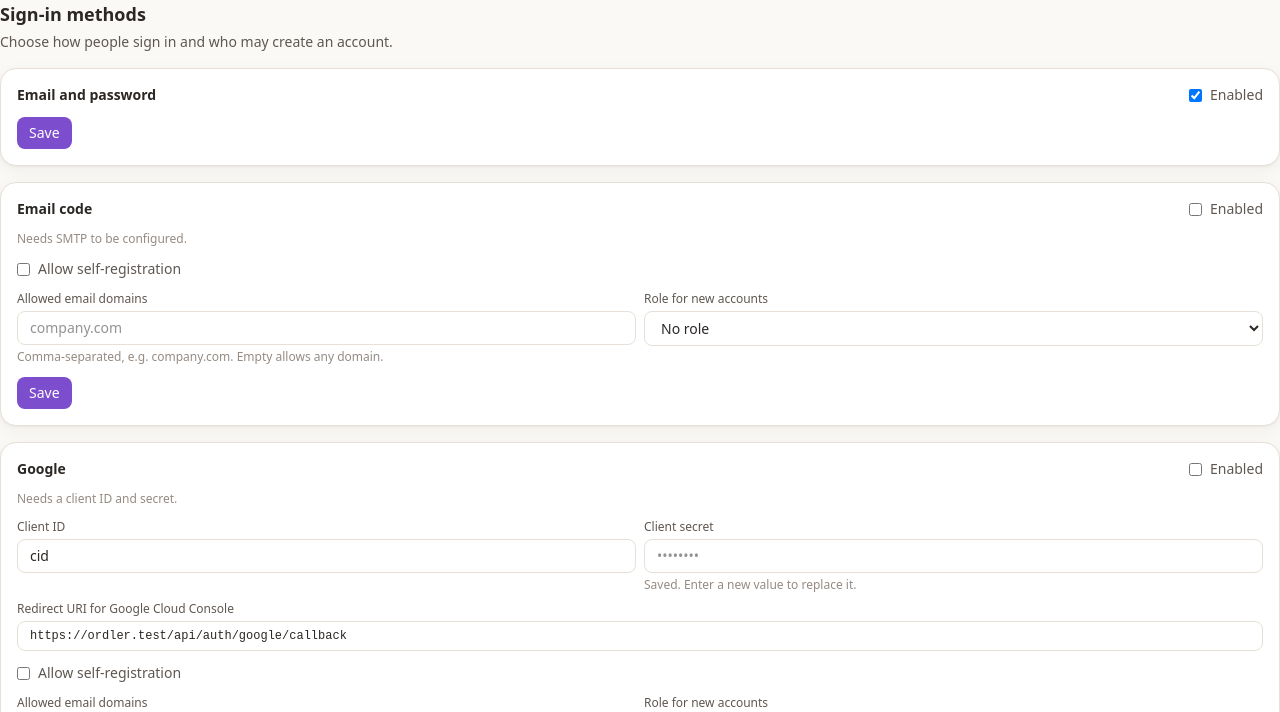
Test: AuthSection › explains lock-out protection
The image size is (1280, 712).
Click the checkbox labelled "Enabled" in the row of "Email and password" at (1196, 95), box top-left (1189, 88), bottom-right (1202, 102)
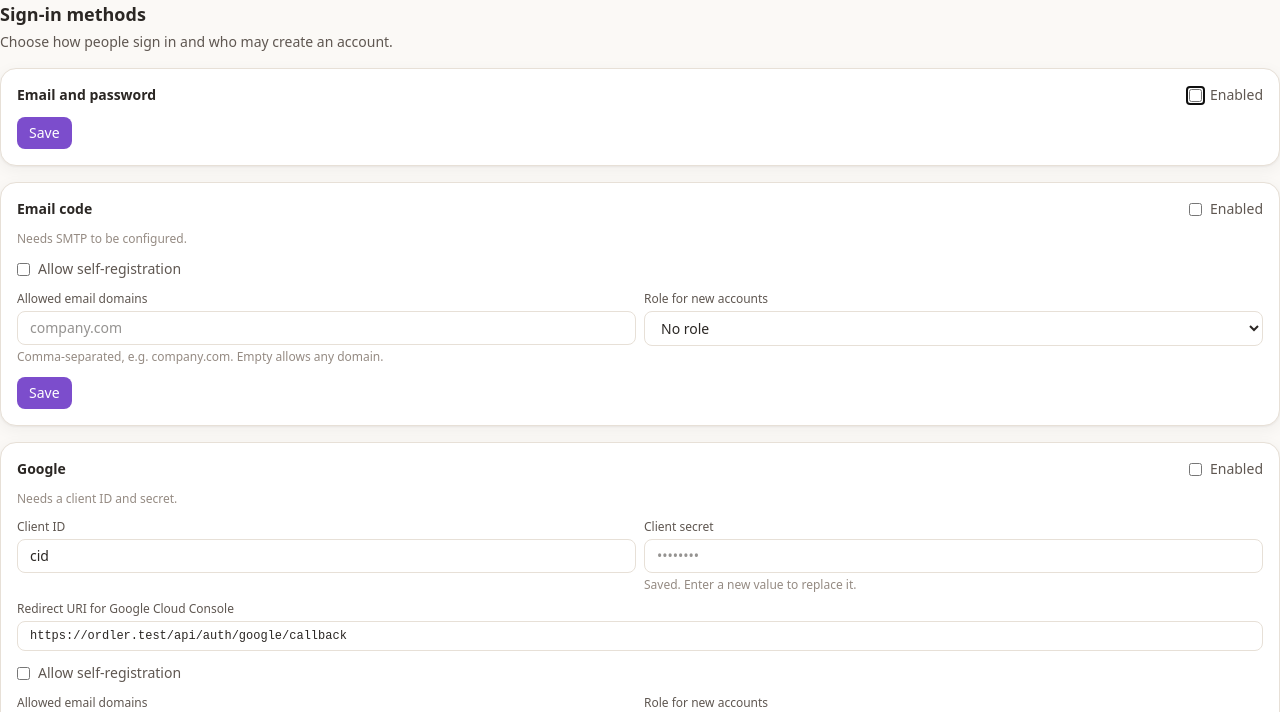
Click the button "Save" below "Email and password" at (44, 133), box top-left (17, 117), bottom-right (72, 149)
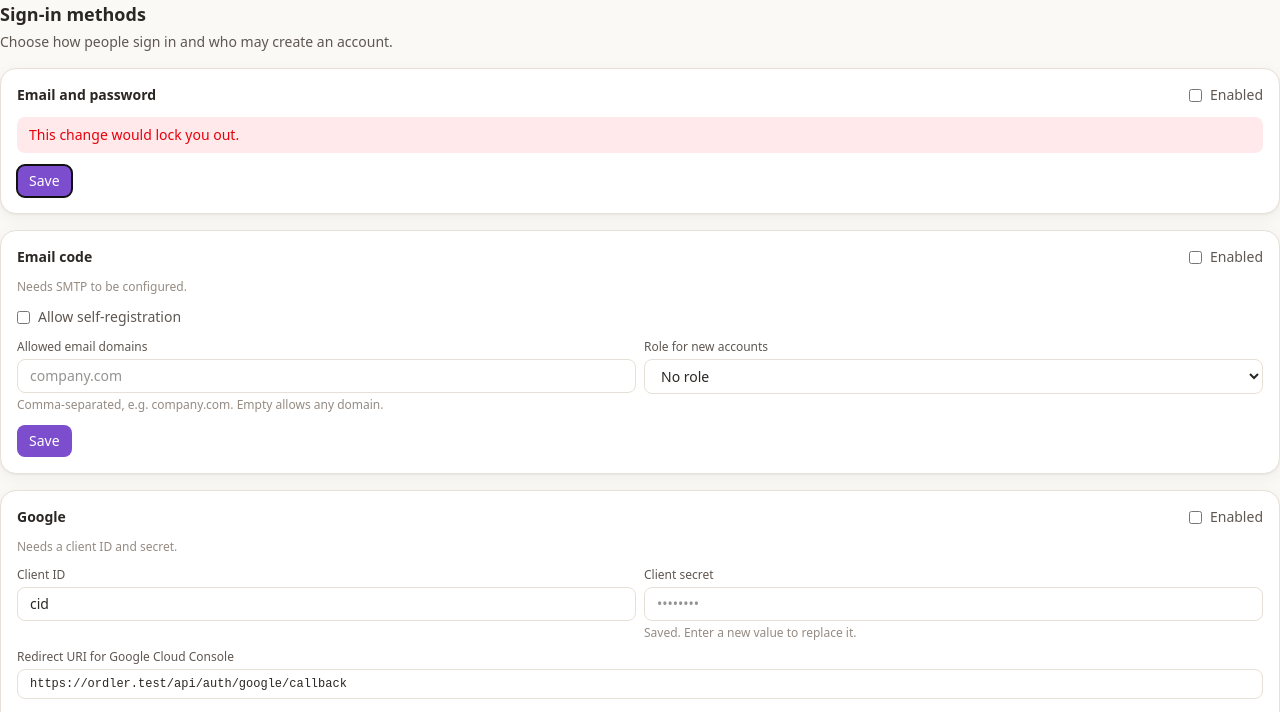
Now the message reads "This change would lock you out.", box top-left (29, 125), bottom-right (239, 144)
